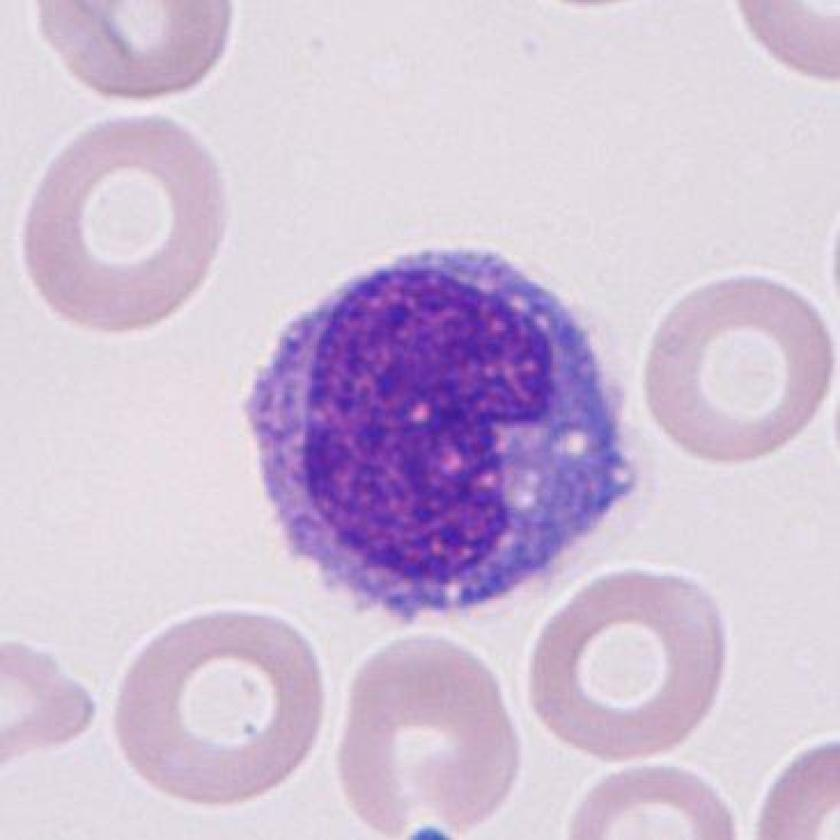monocyte: (224, 231, 648, 638)
